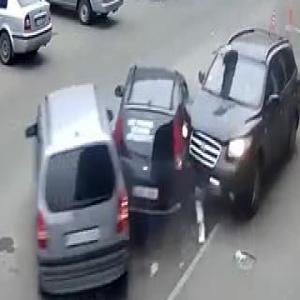low_impact: (22, 20, 300, 300)
